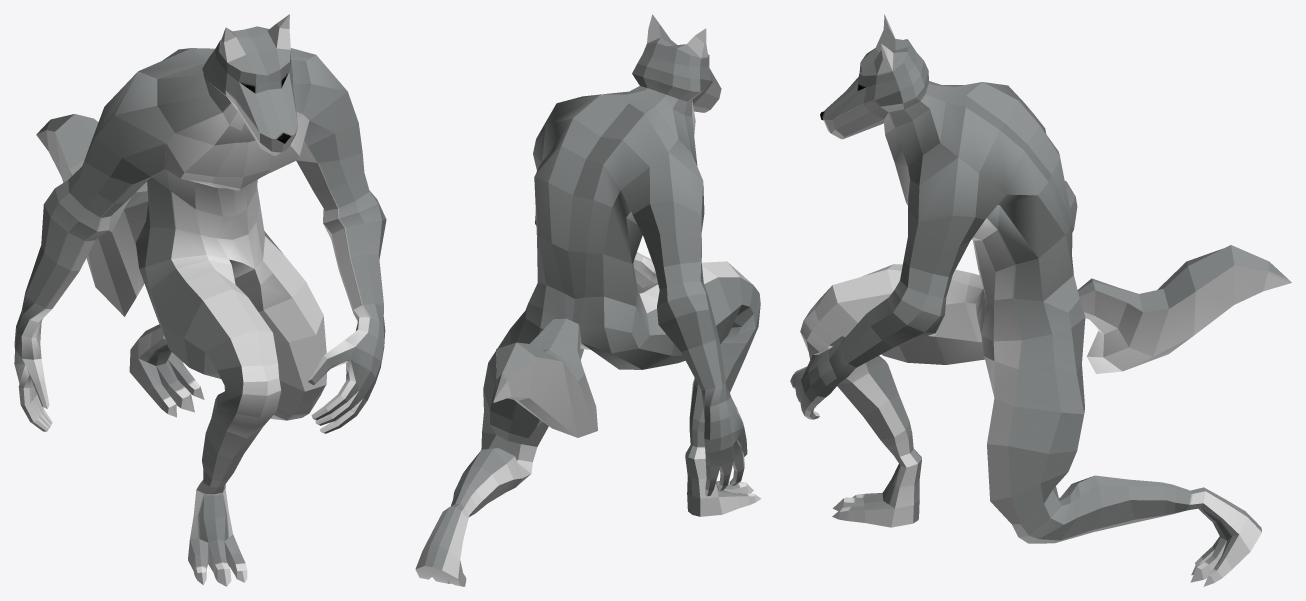
Rendered from WolfWalk(32).obj.
3 views of the same model, side by side, from view 1: azimuth 30°, elevation 25°; view 2: azimuth 150°, elevation 25°; view 3: azimuth 270°, elevation 25° (orthographic). The views are drawn at different scales.
Visible parts, largest first — view 1: Box001; view 2: Box001; view 3: Box001.
Part boxes in pixels (<box>): Box001: <box>14,14,386,586</box>; Box001: <box>415,14,761,586</box>; Box001: <box>790,14,1291,586</box>.
Bounding box in the file's own units: 70.38 × 121 × 108.
